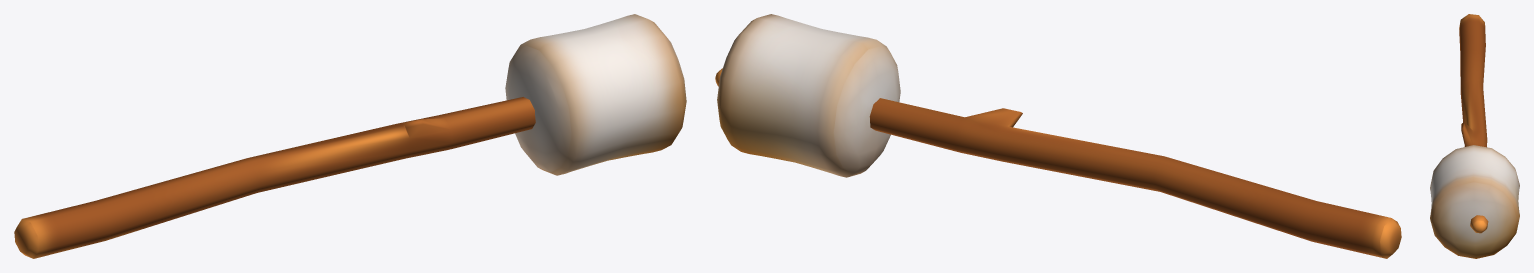
File: MarshmallowStick.fbx
The picture shows the model from 3 angles, left to right: view 1: azimuth 30°, elevation 25°; view 2: azimuth 150°, elevation 25°; view 3: azimuth 270°, elevation 25°; orthographic projection. The views are drawn at different scales.
Parts seen in each view (by area): view 1: Roundcube, Cylinder.031; view 2: Roundcube, Cylinder.031; view 3: Roundcube, Cylinder.031.
Part boxes in pixels (x1,y1,x2,y2): Roundcube: (505,14,686,175); Cylinder.031: (14,97,535,258); Roundcube: (717,14,900,177); Cylinder.031: (715,68,1401,258); Roundcube: (1430,145,1519,258); Cylinder.031: (1459,14,1488,233).
Size of the model in its own units: 333 by 60.9 by 60.9.
